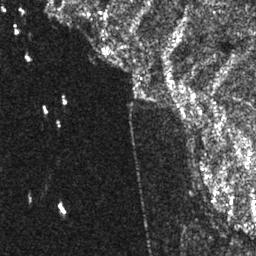ship: (57, 202, 67, 216), (16, 5, 27, 15), (24, 53, 33, 62), (60, 94, 68, 104), (42, 104, 48, 115), (1, 6, 7, 12)
